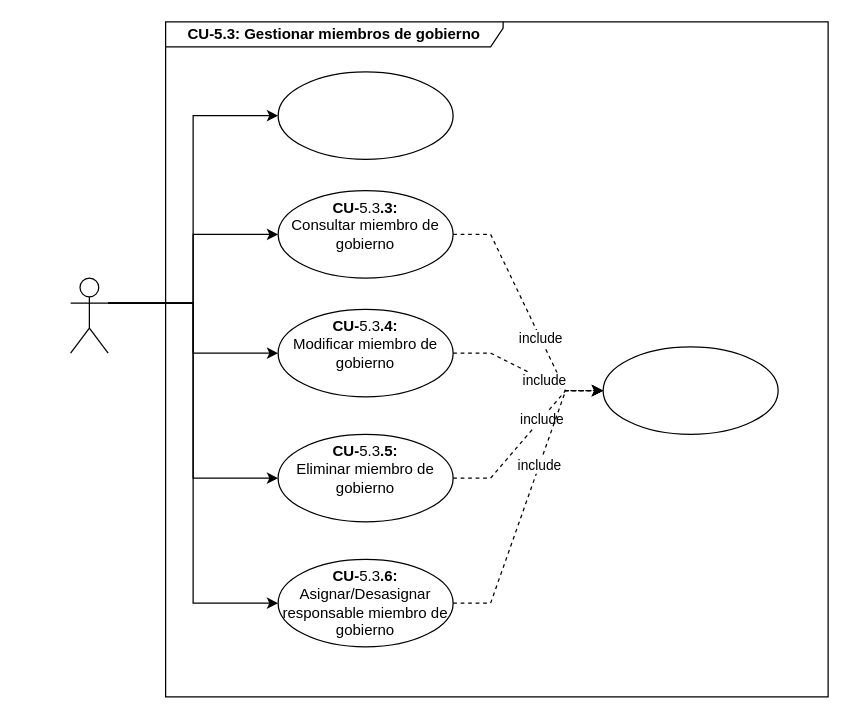
Image size: 850x719. Some labels were removed from this diagram. Here are the shapes that lost their labels. From the top down, the centre of each, then its label:
At pixel 365 115: "CU- 5.3 .2: Crear miembro de gobierno".
At pixel 88 315: "Responsable Centro".
At pixel 690 390: "CU- 5.3 .1: Buscar miembro de gobierno".
